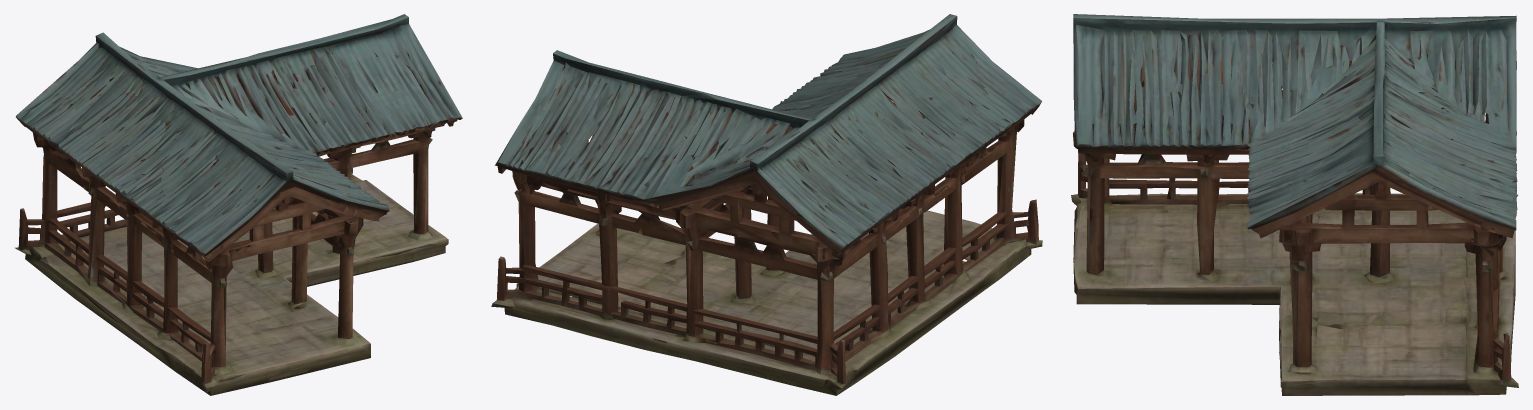
File: ARCH-005.glb
3 renders of one model, left to right at view 1: azimuth 30°, elevation 25°; view 2: azimuth 150°, elevation 25°; view 3: azimuth 270°, elevation 25°, orthographic. The views are drawn at different scales.
Visible parts, largest first — view 1: world; view 2: world; view 3: world.
Boxes of the visible parts, left/top/right/bottom form: world: left=15, top=14, right=462, bottom=395; world: left=491, top=14, right=1042, bottom=395; world: left=1071, top=14, right=1518, bottom=395.
Size of the model in its own units: 6 by 3.58 by 5.97.
1 material, 1 textured.
